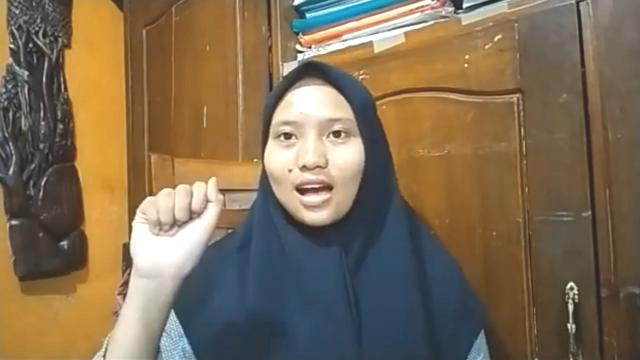A: (118, 174, 225, 288)
